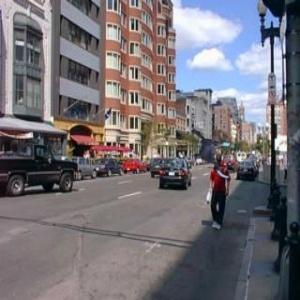drone: (186, 126, 243, 183)
